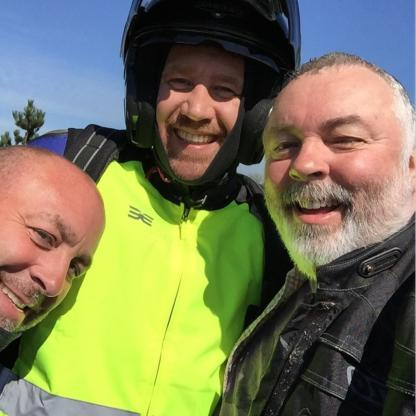Helmet: (109, 0, 298, 218)
